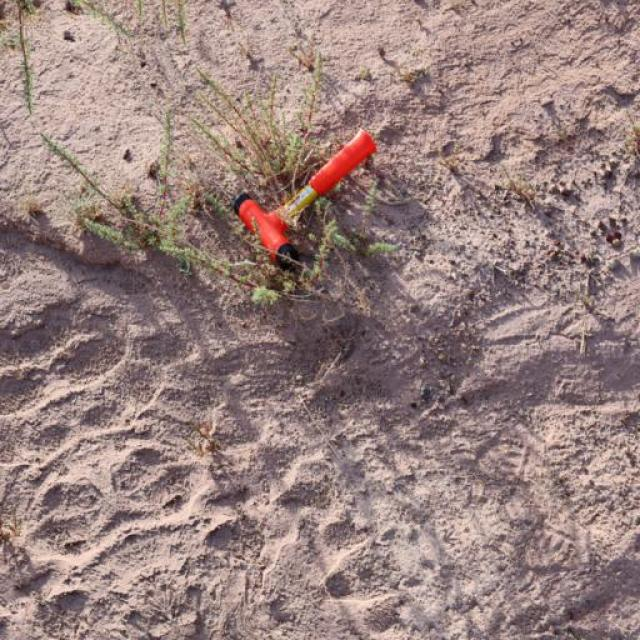mallet: (230, 125, 376, 271)
